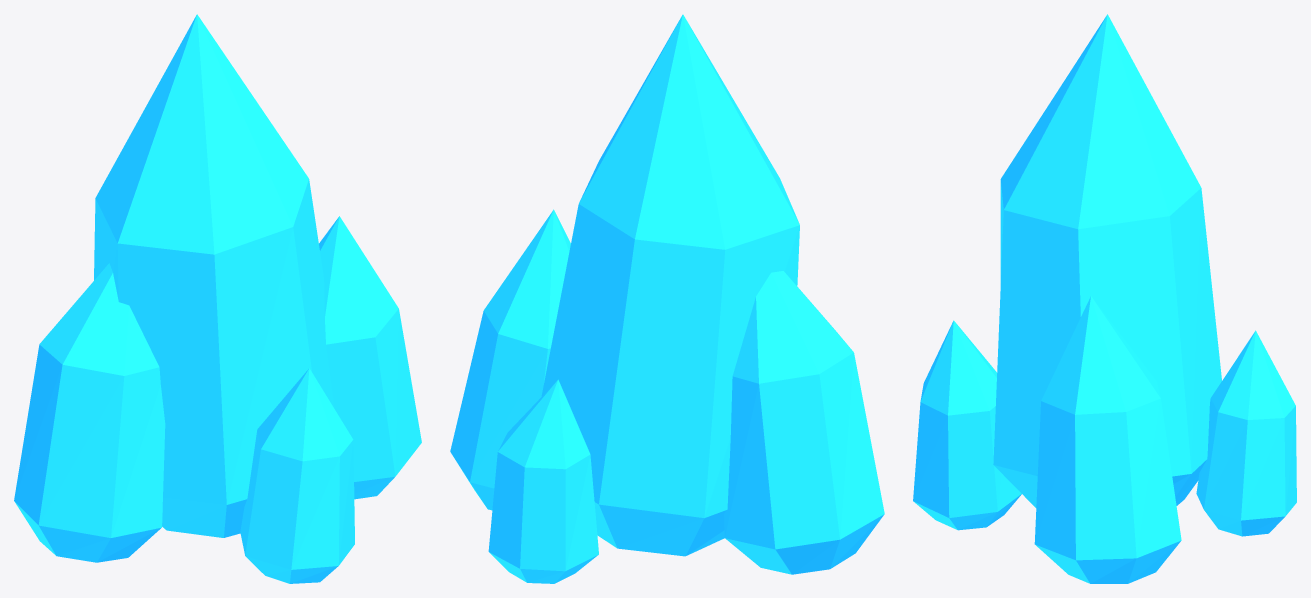
File: Anomalous_Crystal.fbx
3 renders of one model, left to right at view 1: azimuth 30°, elevation 25°; view 2: azimuth 150°, elevation 25°; view 3: azimuth 270°, elevation 25°, orthographic. The views are drawn at different scales.
Visible parts, largest first — view 1: Anomalous_Deposit_B_LOD0; view 2: Anomalous_Deposit_B_LOD0; view 3: Anomalous_Deposit_B_LOD0.
Part boxes in pixels (<box>): Anomalous_Deposit_B_LOD0: <box>14,14,421,583</box>; Anomalous_Deposit_B_LOD0: <box>450,14,884,583</box>; Anomalous_Deposit_B_LOD0: <box>913,14,1296,583</box>.
Size of the model in its own units: 0.9633 by 1.21 by 0.8611.
